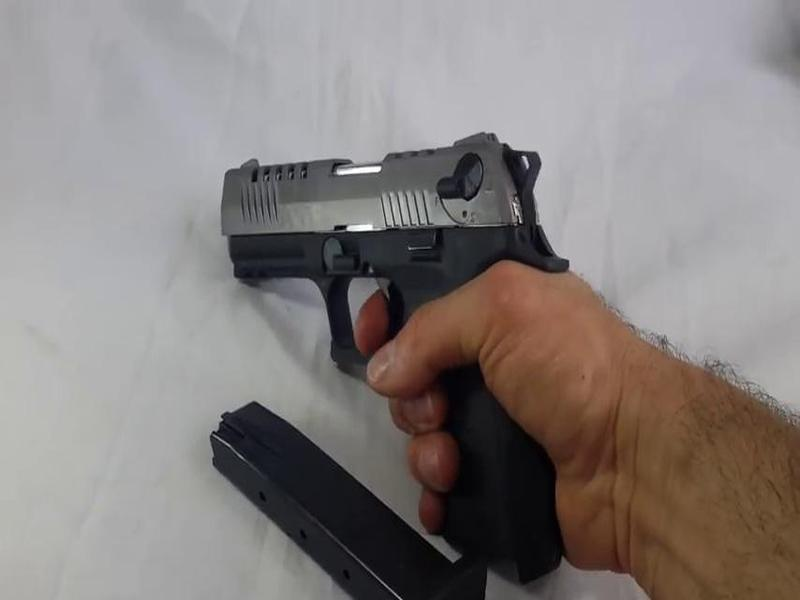Pistola: (210, 120, 564, 461)
